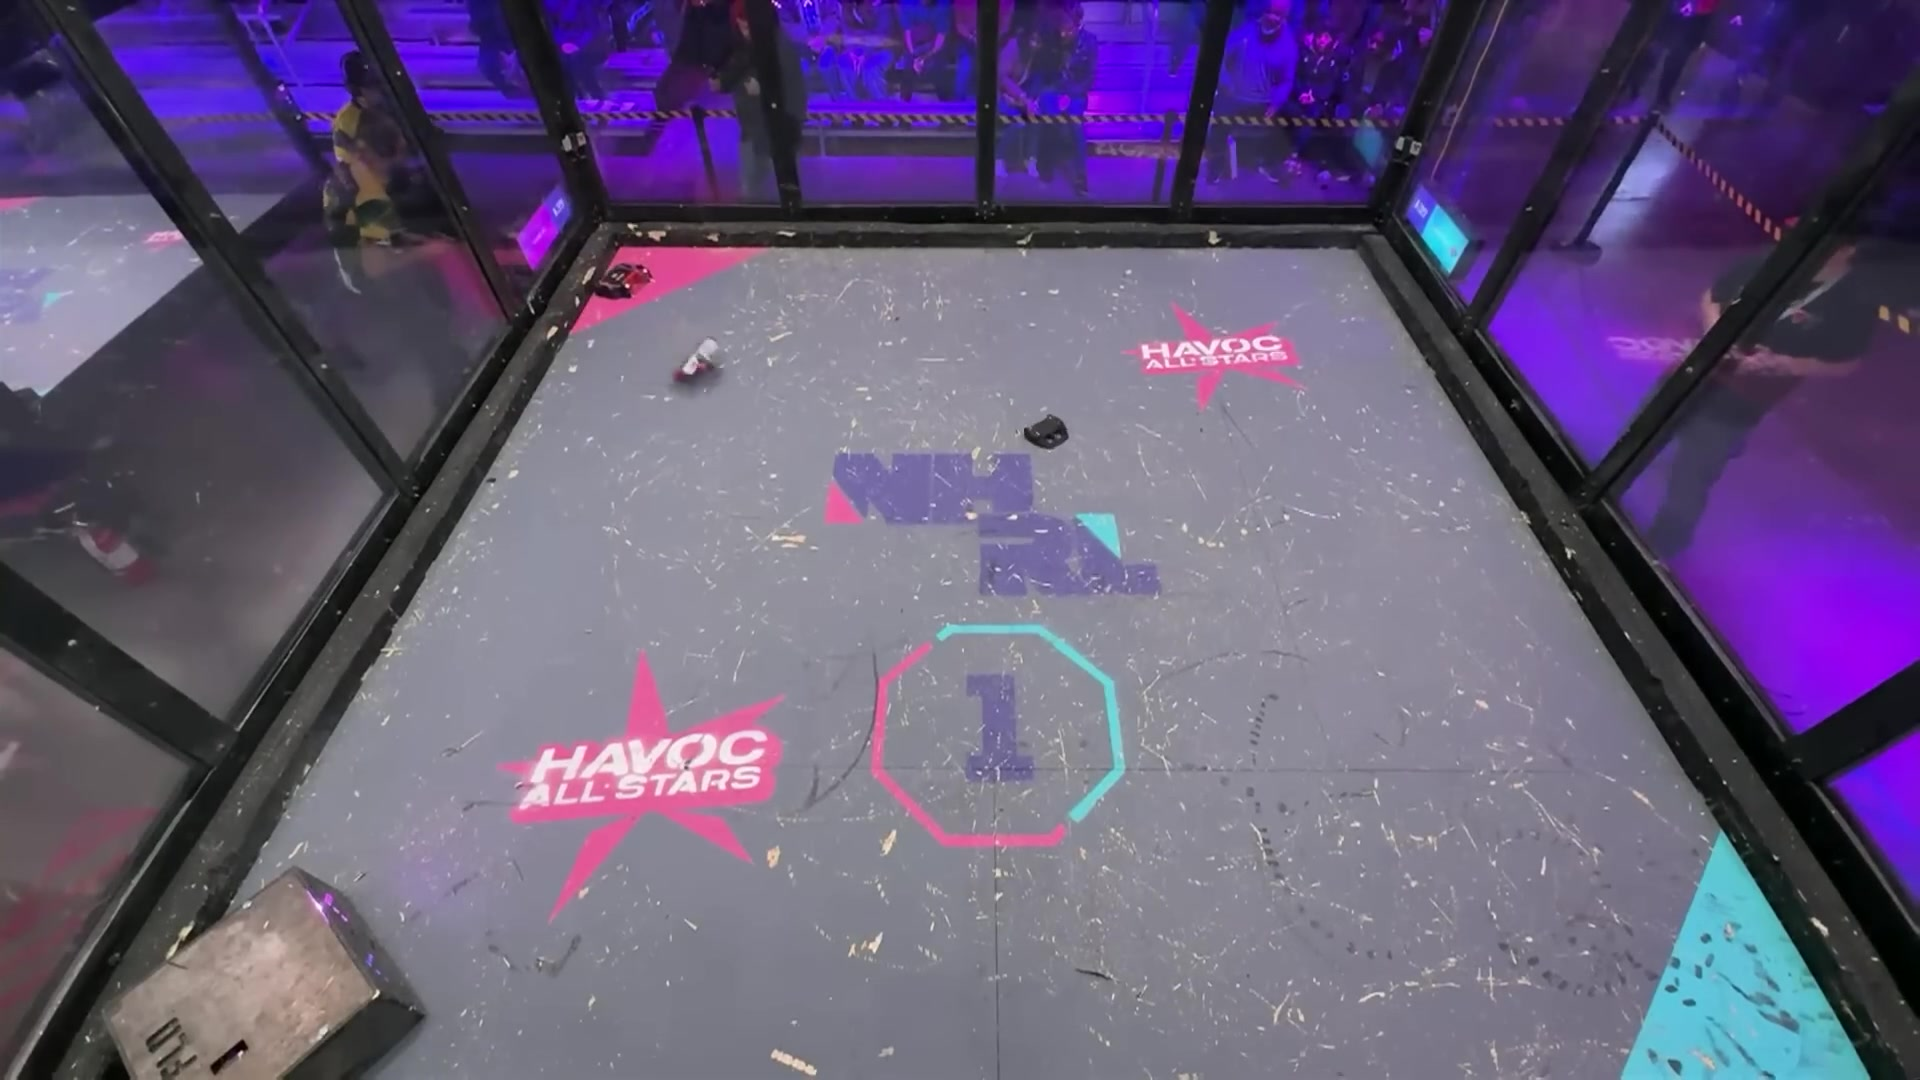combatbot: (674, 336, 720, 380), (599, 264, 650, 301)
housebot: (103, 866, 429, 1079)
minibot: (1027, 414, 1068, 448)
